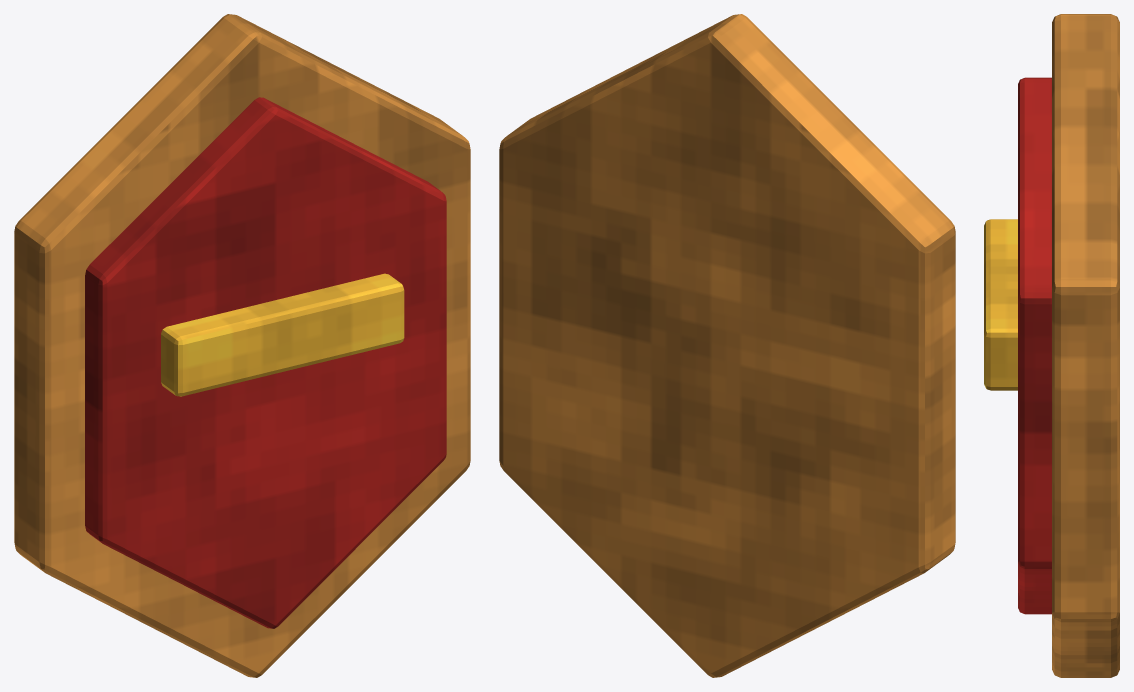
The model's file is rank_2.gltf.
The picture shows the model from 3 angles, left to right: view 1: azimuth 30°, elevation 25°; view 2: azimuth 150°, elevation 25°; view 3: azimuth 270°, elevation 25°; orthographic projection. The views are drawn at different scales.
Parts seen in each view (by area): view 1: rank_2_pennant, rank_2_brass, rank_2_gold; view 2: rank_2_brass; view 3: rank_2_brass, rank_2_pennant, rank_2_gold.
Boxes of the visible parts, x1,y1,x2,y2 form: rank_2_pennant: (85, 97, 446, 628); rank_2_brass: (14, 14, 470, 677); rank_2_gold: (161, 273, 404, 396); rank_2_brass: (499, 14, 955, 677); rank_2_brass: (1052, 14, 1119, 677); rank_2_pennant: (1018, 77, 1051, 614); rank_2_gold: (984, 219, 1017, 390).
Size of the model in its own units: 0.2252 by 0.3224 by 0.06.
Materials: 3 (3 with a texture image).
